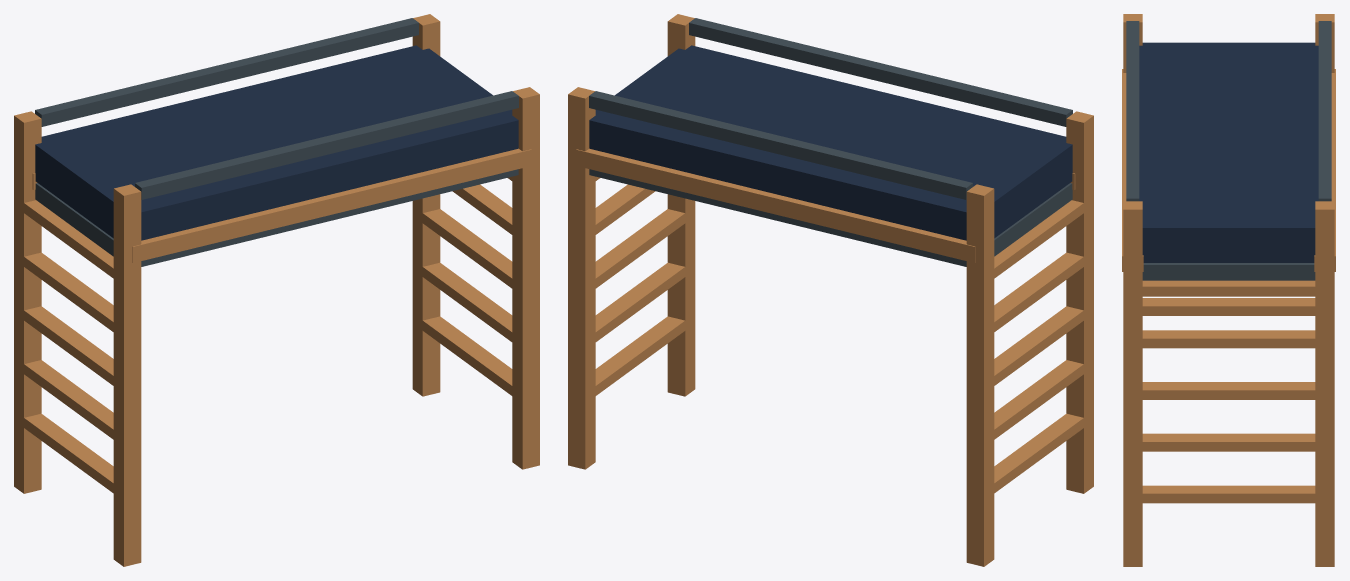
The model's file is loft_bed.glb.
3 renders of one model, left to right at view 1: azimuth 30°, elevation 25°; view 2: azimuth 150°, elevation 25°; view 3: azimuth 270°, elevation 25°, orthographic. The views are drawn at different scales.
Size of the model in its own units: 2.15 by 1.84 by 0.9911.
